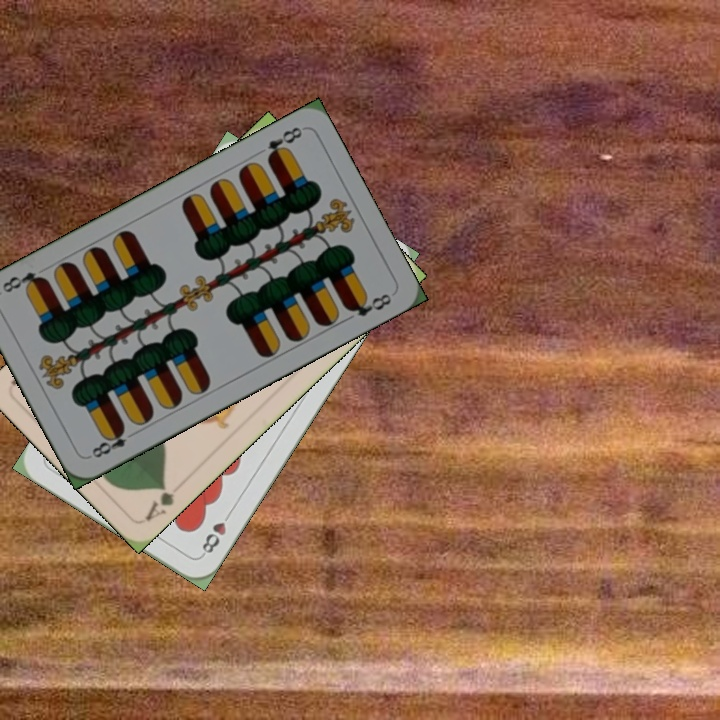E8: (85, 423, 140, 461), (263, 122, 305, 164)
GA: (141, 480, 177, 524)
H8: (197, 506, 235, 559)
